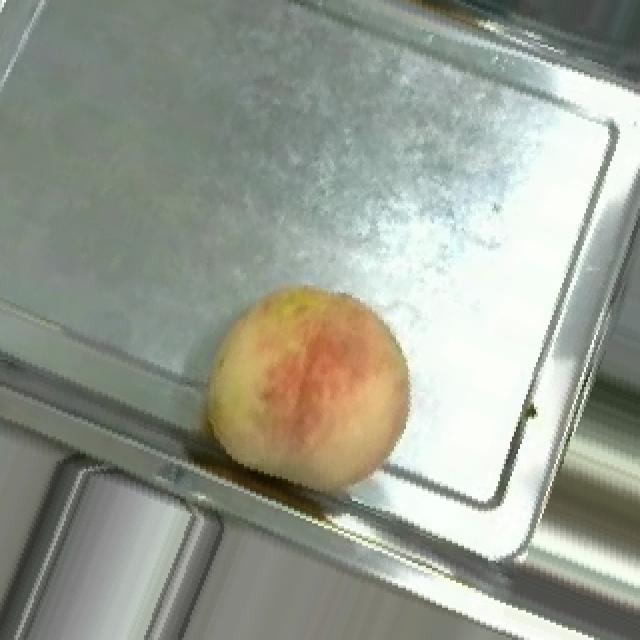Fruit: (164, 246, 454, 528)
